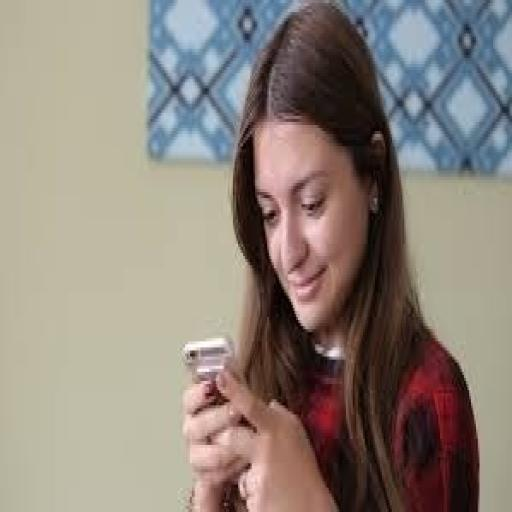texting: (178, 0, 481, 506)
